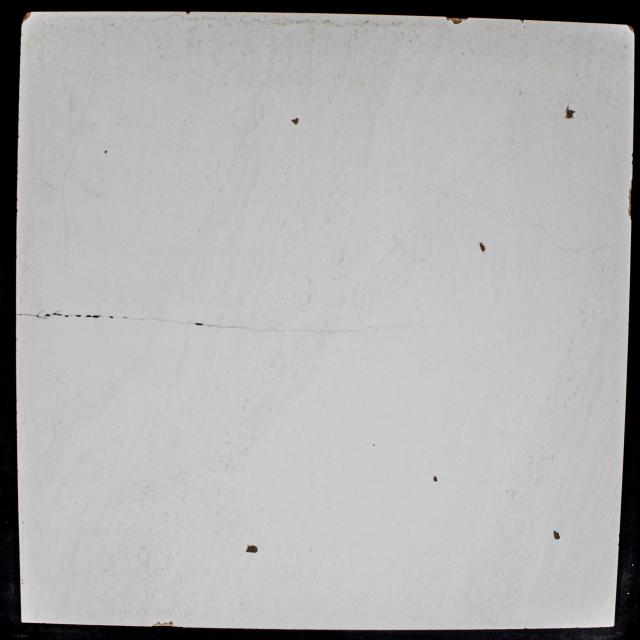edge-chipping: (624, 22, 638, 36), (445, 16, 469, 24), (152, 621, 173, 627), (22, 11, 31, 22), (628, 196, 632, 220), (628, 179, 632, 196), (174, 625, 183, 628), (520, 19, 525, 24), (186, 12, 190, 14)
hole: (565, 105, 576, 120), (245, 544, 258, 554), (478, 240, 487, 253), (553, 530, 561, 540), (290, 117, 300, 125), (195, 322, 203, 326), (433, 476, 438, 482), (85, 314, 92, 318), (92, 315, 100, 318), (45, 313, 51, 317), (104, 150, 108, 154), (110, 316, 114, 319), (76, 315, 82, 317), (64, 315, 69, 317)
line: (205, 323, 280, 332), (129, 317, 193, 326), (291, 328, 347, 334), (16, 313, 36, 317)
